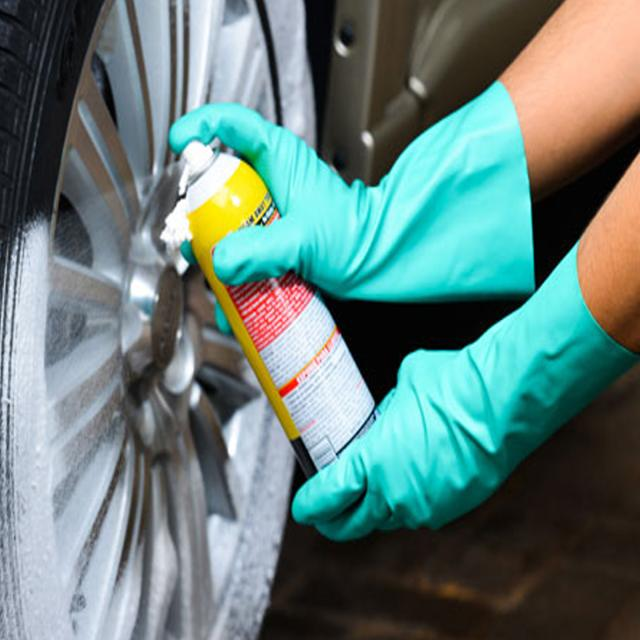gloves: (296, 232, 640, 533), (170, 82, 539, 296)
